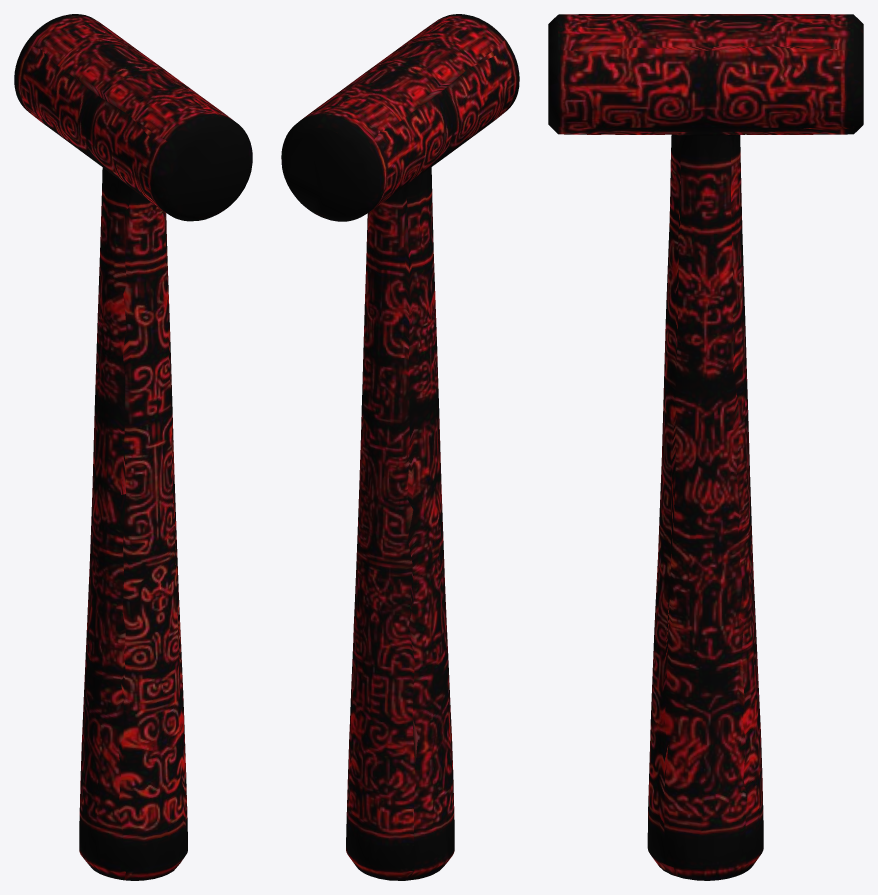
Rendered from mallet.glb.
3 views of the same model, side by side, from view 1: azimuth 30°, elevation 25°; view 2: azimuth 150°, elevation 25°; view 3: azimuth 270°, elevation 25° (orthographic). The views are drawn at different scales.
Visible parts, largest first — view 1: mallet; view 2: mallet; view 3: mallet.
Part boxes in pixels (x1=…): mallet: x1=14, y1=14, x2=252, y2=880; mallet: x1=281, y1=14, x2=519, y2=880; mallet: x1=548, y1=14, x2=863, y2=880.
Size of the model in its own units: 0.1307 by 1 by 0.3395.
Materials: 1 (1 with a texture image).
